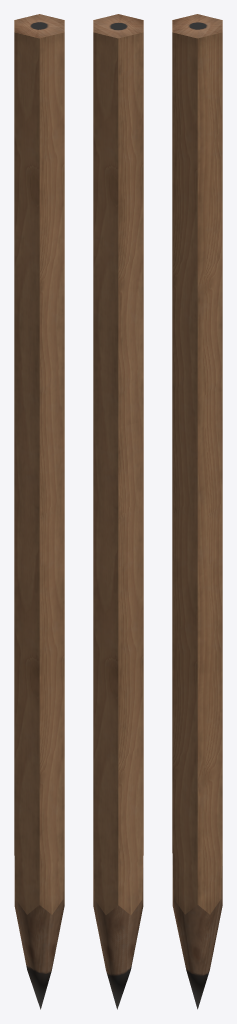
The model's file is Mesh_Pencil.fbx.
3 views of the same model, side by side, from view 1: azimuth 30°, elevation 25°; view 2: azimuth 210°, elevation 25°; view 3: azimuth 330°, elevation 25° (orthographic).
Parts seen in each view (by area): view 1: Mesh_Pencil_LOD0; view 2: Mesh_Pencil_LOD0; view 3: Mesh_Pencil_LOD0.
Part boxes in pixels (<box>): Mesh_Pencil_LOD0: <box>14,14,64,1009</box>; Mesh_Pencil_LOD0: <box>93,14,143,1009</box>; Mesh_Pencil_LOD0: <box>172,14,222,1009</box>.
Size of what is drawn, in the model's own units: 0.00971 by 0.1816 by 0.00841.
